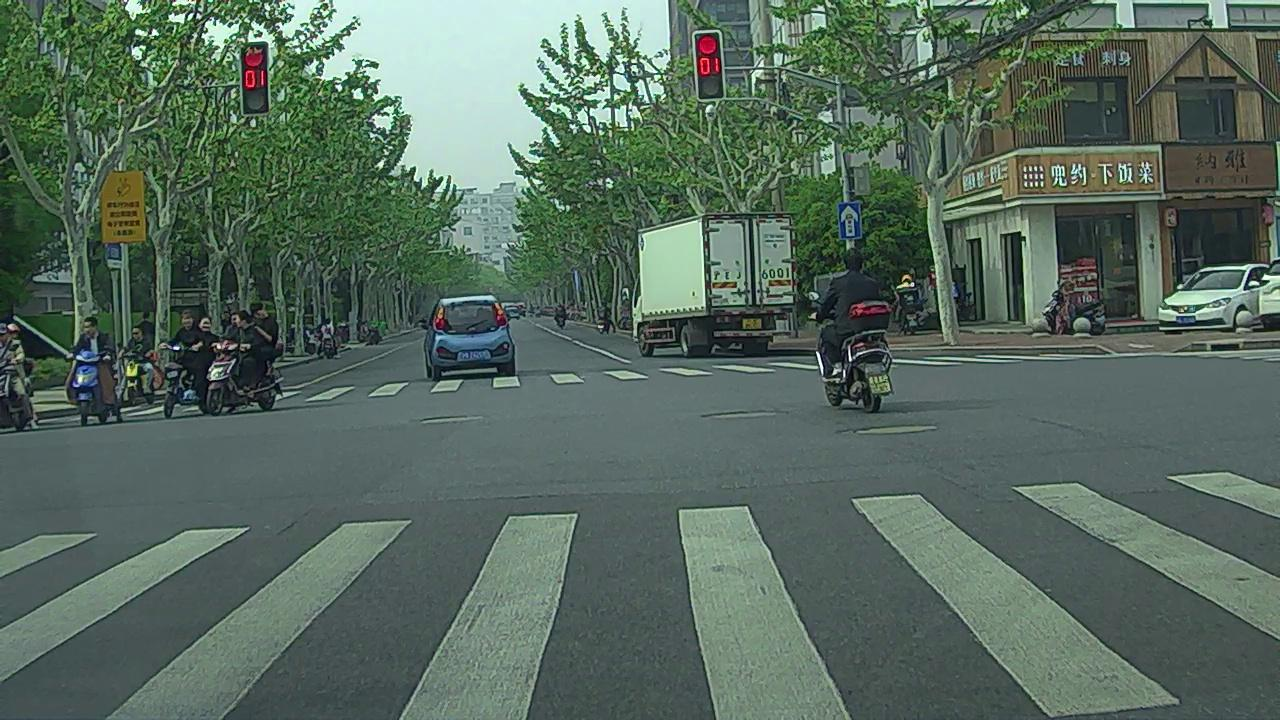traffic_light: (696, 31, 726, 102), (246, 45, 269, 112)
